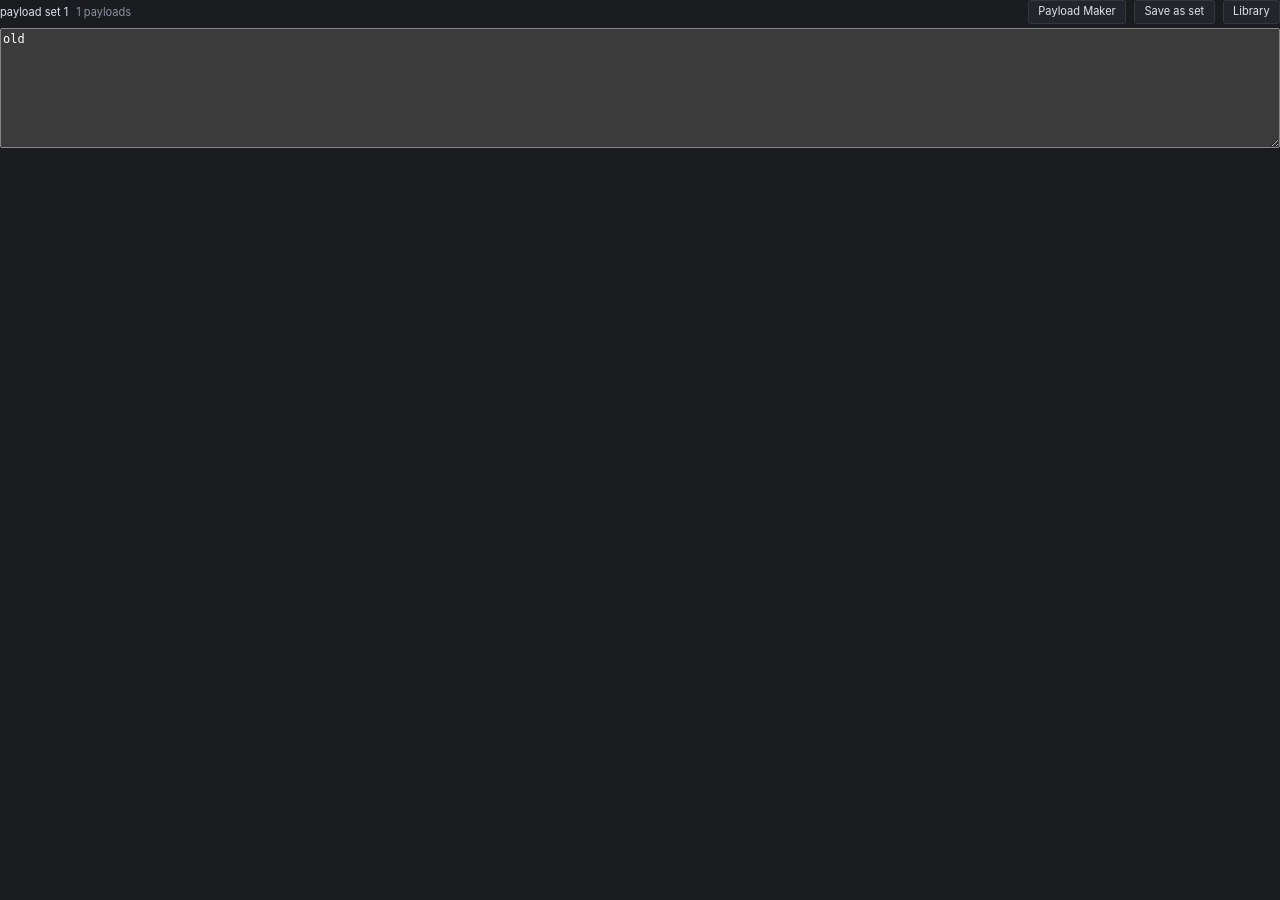
Scenario: Payload Maker dialog › opens for a set, previews a padded range, and only changes it on apply
This screenshot has width=1280, height=900.
Click the button "Payload Maker".
click(1077, 12)  # box [1028,0,1126,24]
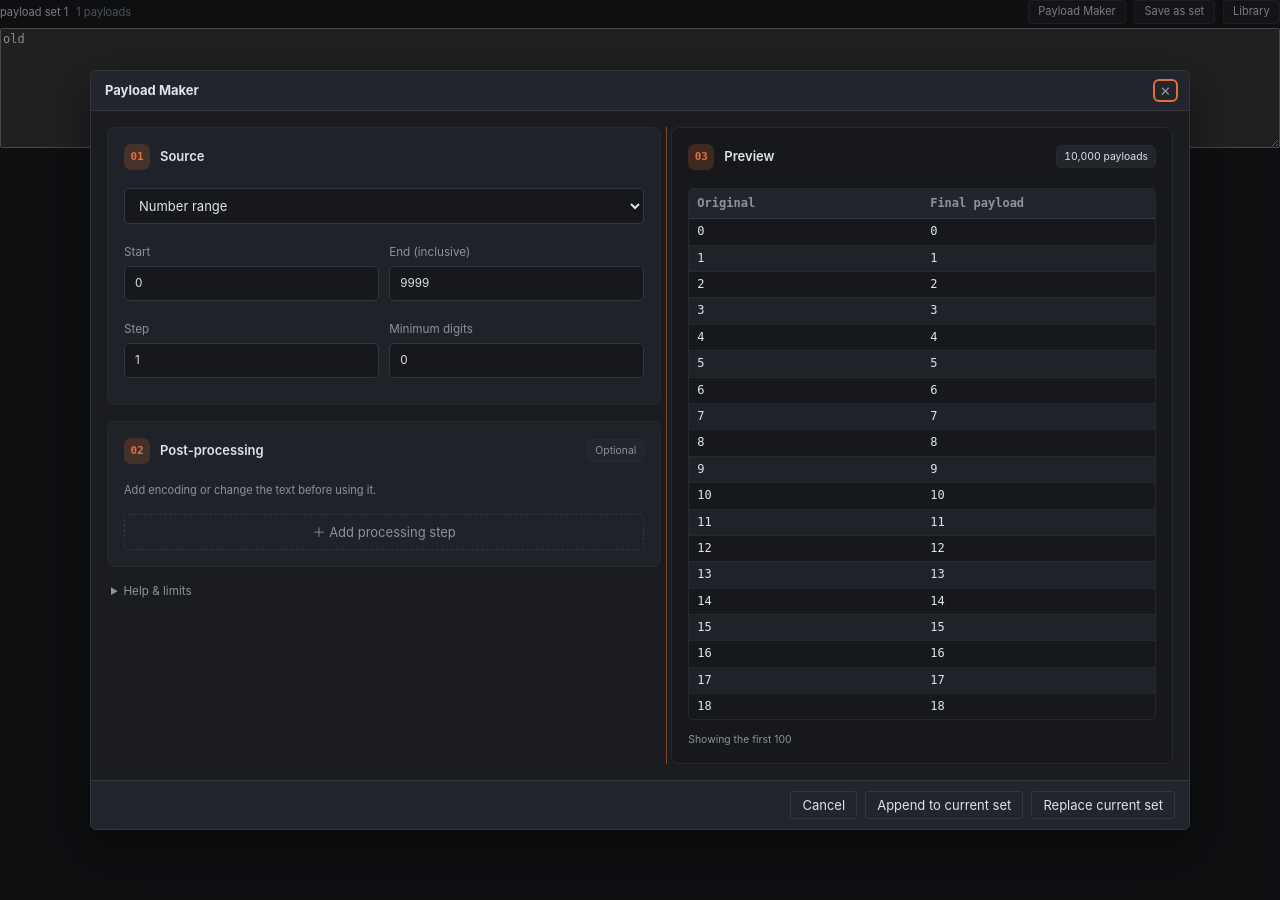
Check: the dialog "Payload Maker" is shown
Replace the text in the field labelled "End (inclusive)" with "4" at (517, 283), box [389,266,644,301]
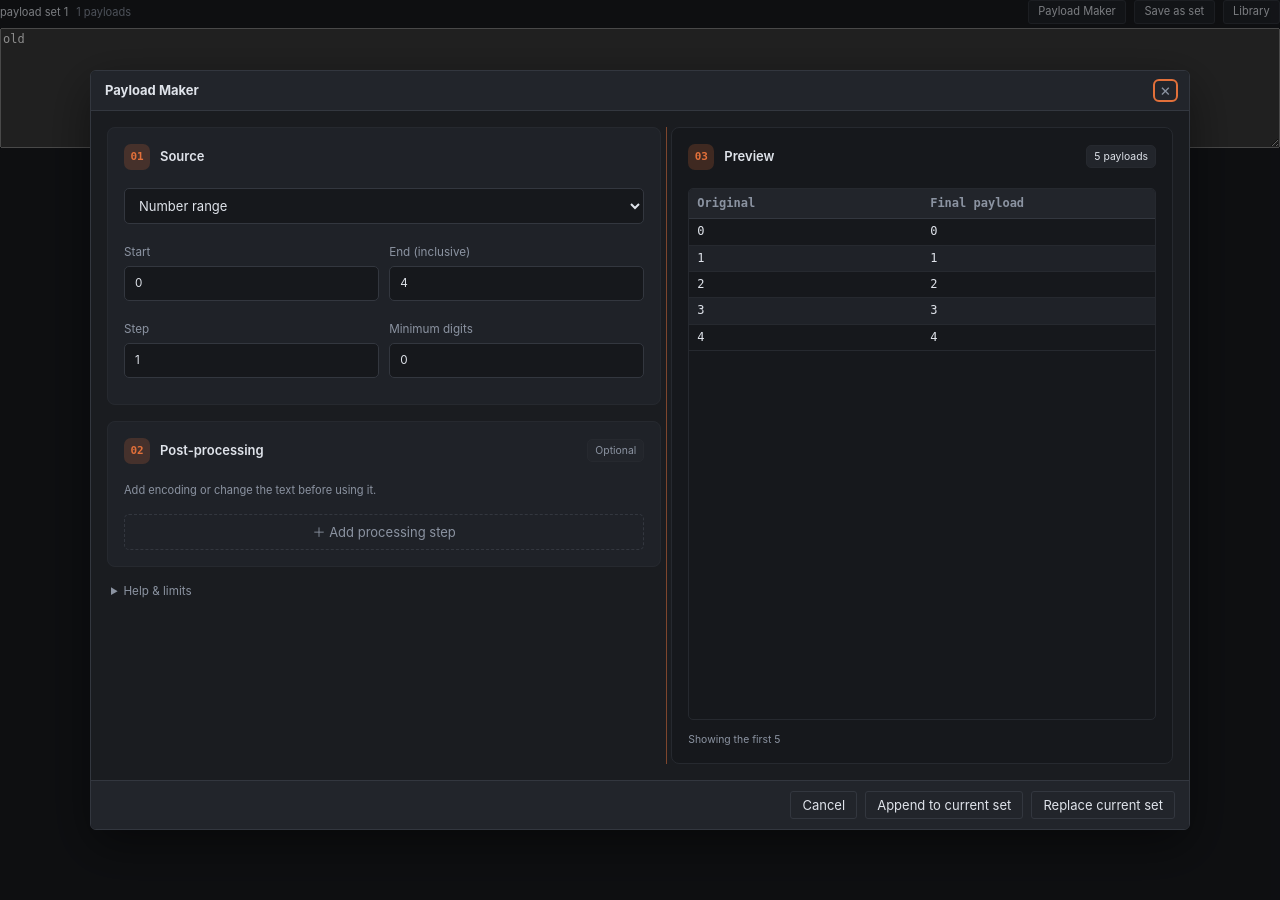
Replace the text in the field labelled "Step" with "2" at (252, 360), box [124,343,379,378]
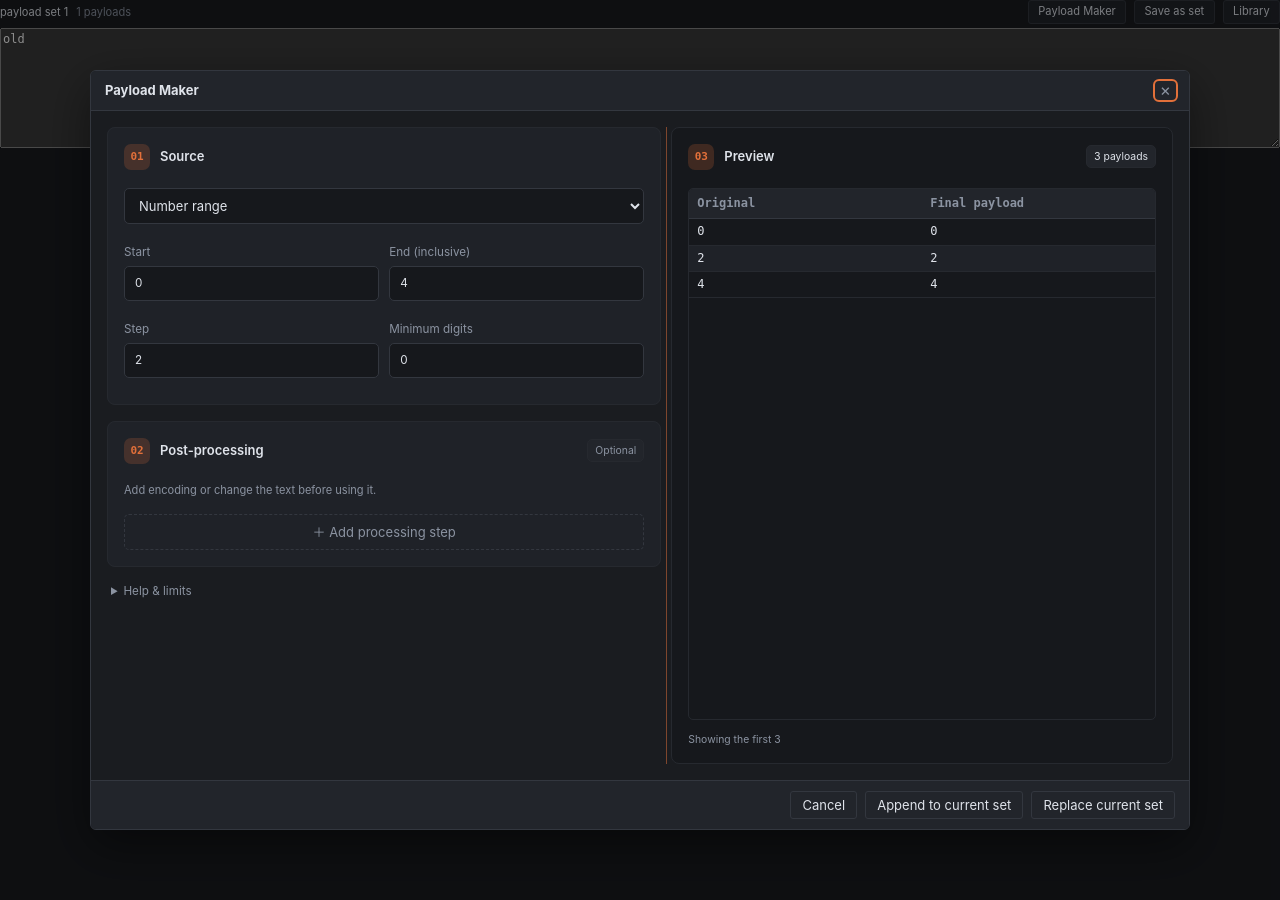
Replace the text in the field labelled "Minimum digits" with "4" at (517, 360), box [389,343,644,378]
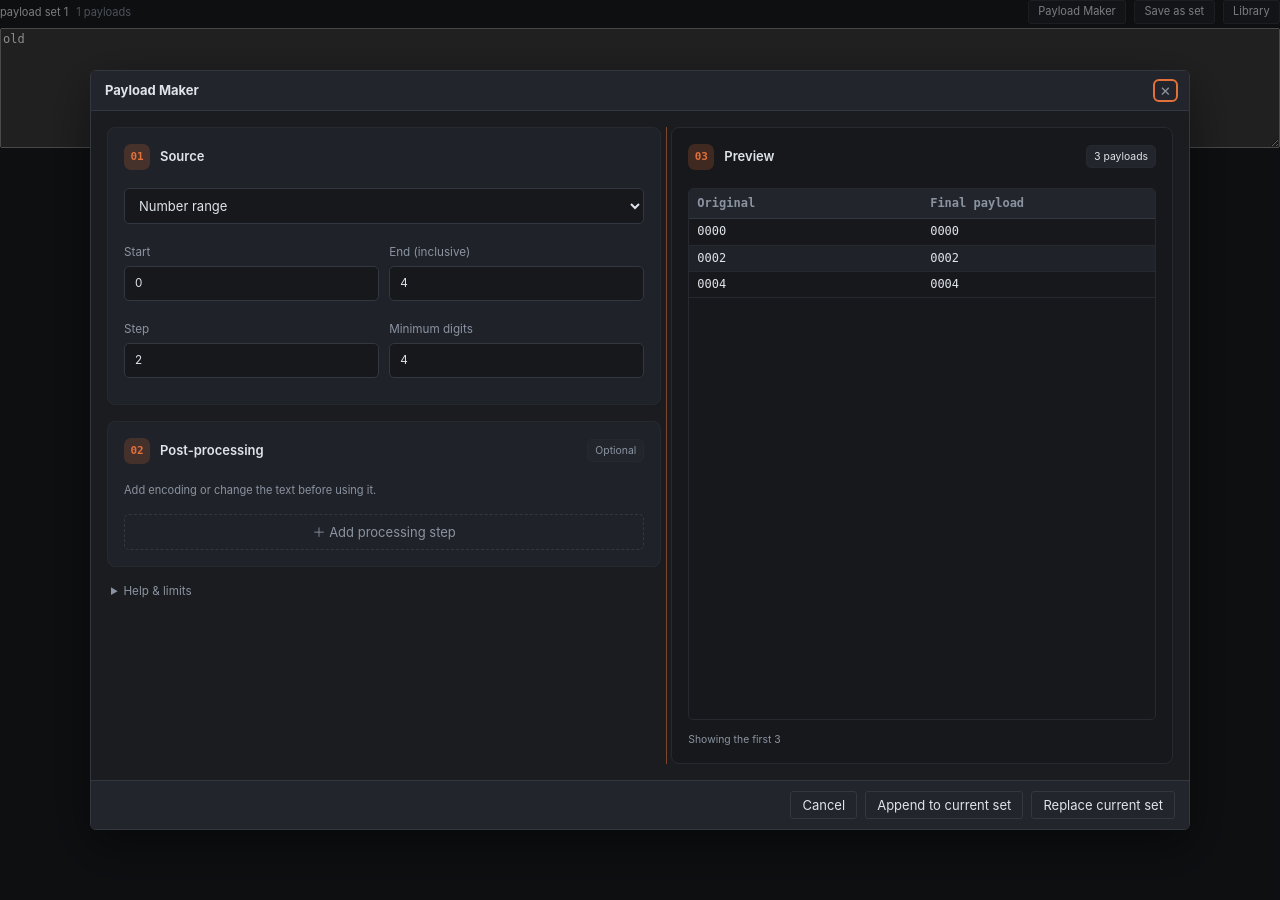
Check: the text "0002" is shown 2 times, box [689,245,922,272]; [922,245,1155,272]
Click the button "Replace current set".
click(1103, 805)  # box [1031,791,1175,819]
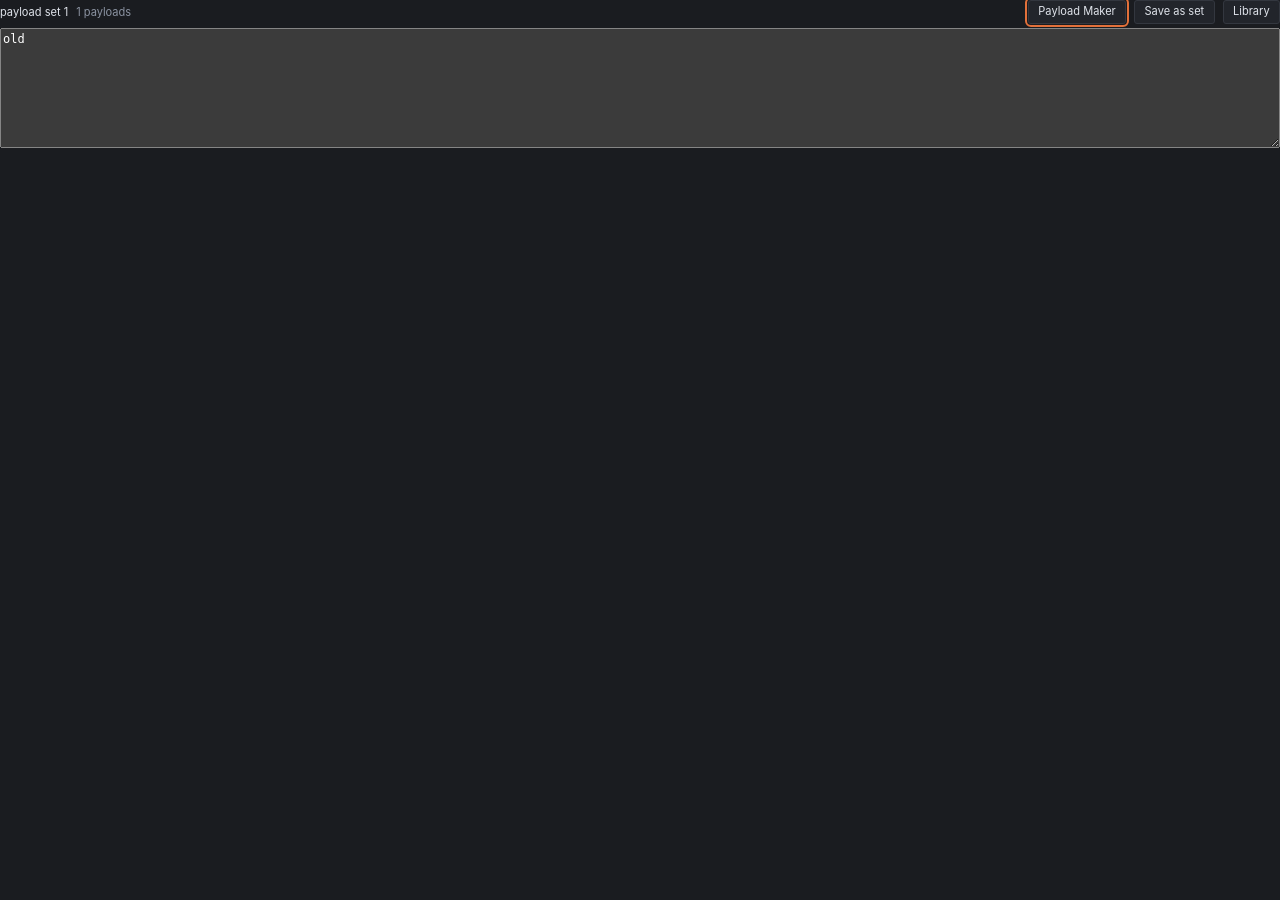
Check: the dialog is gone
